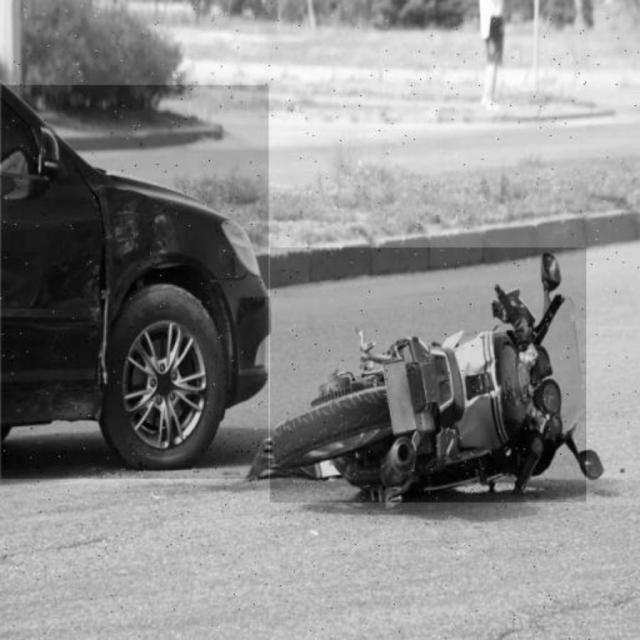vehicle: (1, 85, 269, 478), (270, 248, 586, 502)
